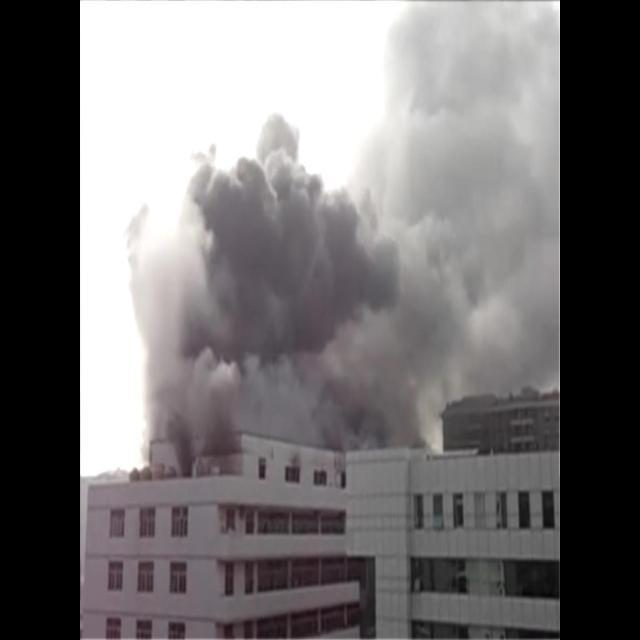Smoke: (124, 1, 559, 467)
